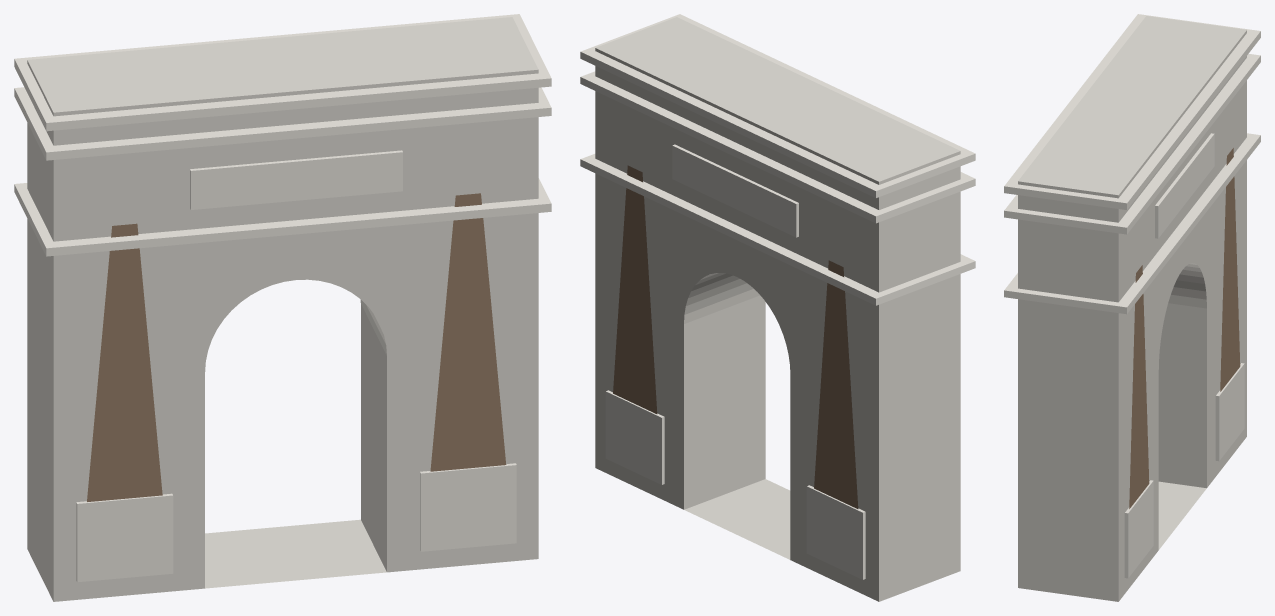
File: detail.glb
3 renders of one model, left to right at view 1: azimuth 30°, elevation 25°; view 2: azimuth 150°, elevation 25°; view 3: azimuth 270°, elevation 25°, orthographic. The views are drawn at different scales.
Parts seen in each view (by area): view 1: stone, trim, metal; view 2: stone, trim, metal; view 3: stone, trim, metal.
Boxes of the visible parts, left/top/right/bottom form: stone: left=27, top=17, right=538, bottom=601; trim: left=14, top=14, right=551, bottom=582; metal: left=87, top=193, right=506, bottom=501; stone: left=595, top=17, right=960, bottom=601; trim: left=580, top=14, right=975, bottom=579; metal: left=613, top=165, right=858, bottom=508; stone: left=1018, top=16, right=1246, bottom=601; trim: left=1004, top=14, right=1260, bottom=578; metal: left=1129, top=148, right=1240, bottom=508.
Size of the model in its own units: 24.96 by 25 by 14.3.
